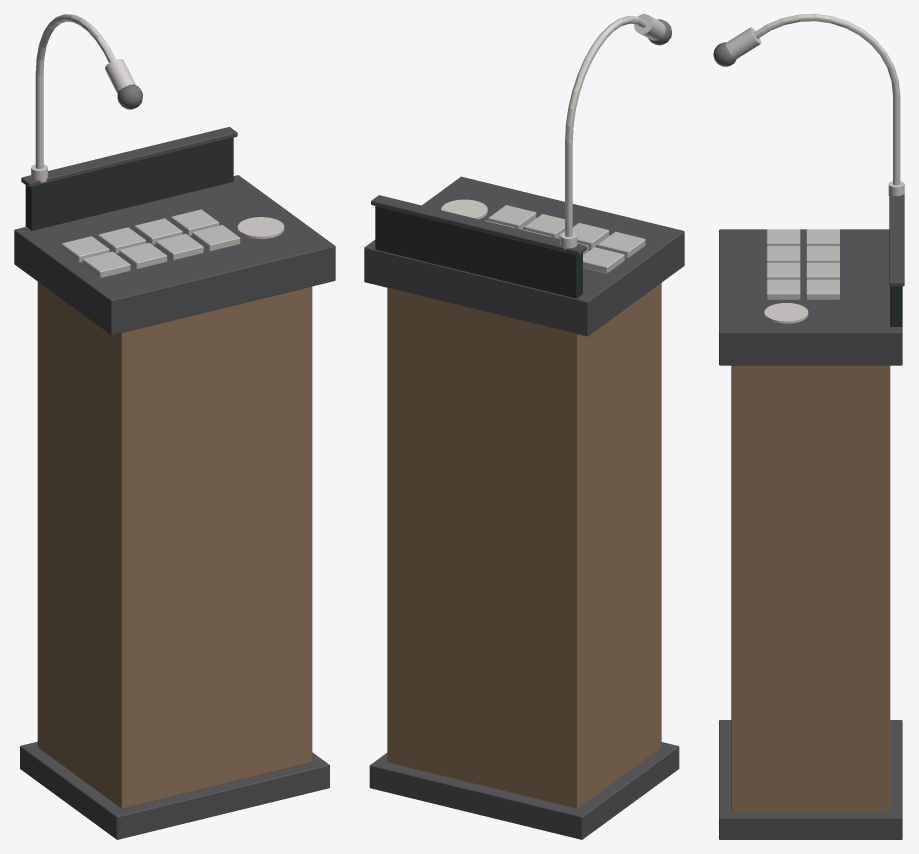
Rendered from sampler.glb.
The picture shows the model from 3 angles, left to right: view 1: azimuth 30°, elevation 25°; view 2: azimuth 150°, elevation 25°; view 3: azimuth 270°, elevation 25°; orthographic projection. The views are drawn at different scales.
Parts seen in each view (by area): view 1: Sampler; view 2: Sampler; view 3: Sampler.
Part boxes in pixels (x1,y1,x2,y2): Sampler: (14, 14, 335, 839); Sampler: (364, 14, 684, 839); Sampler: (713, 14, 904, 839).
Bounding box in the file's own units: 0.4 × 1.33 × 0.3126.
